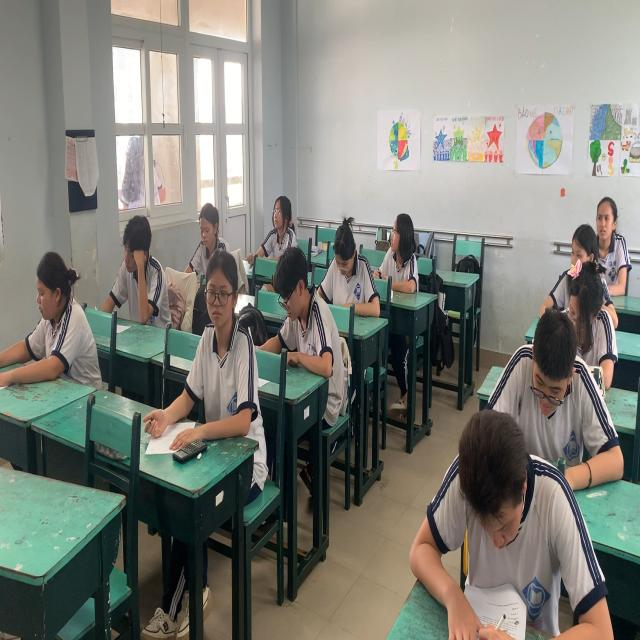cheating: (376, 202, 419, 288)
not_cheating: (410, 413, 579, 605), (506, 316, 594, 481), (194, 256, 252, 436), (264, 233, 330, 384), (552, 236, 610, 371), (32, 246, 85, 381), (108, 215, 168, 329), (322, 215, 384, 319), (590, 188, 630, 301), (256, 188, 301, 247), (190, 198, 225, 260)
